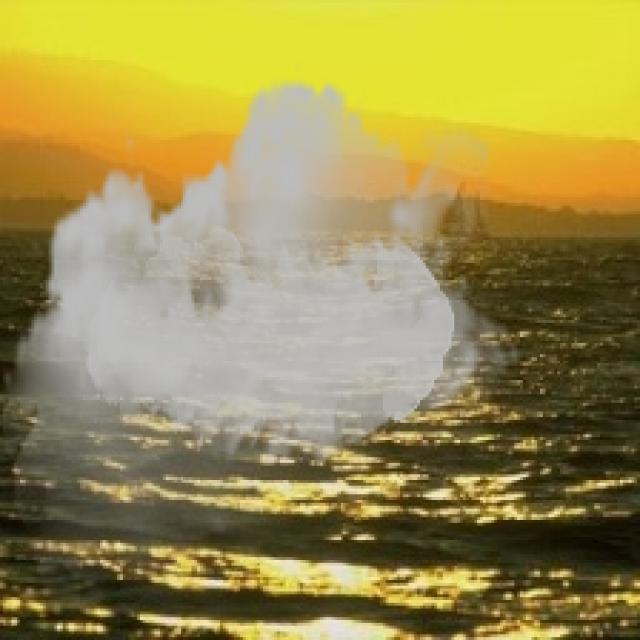Smoke: (3, 57, 523, 623)
